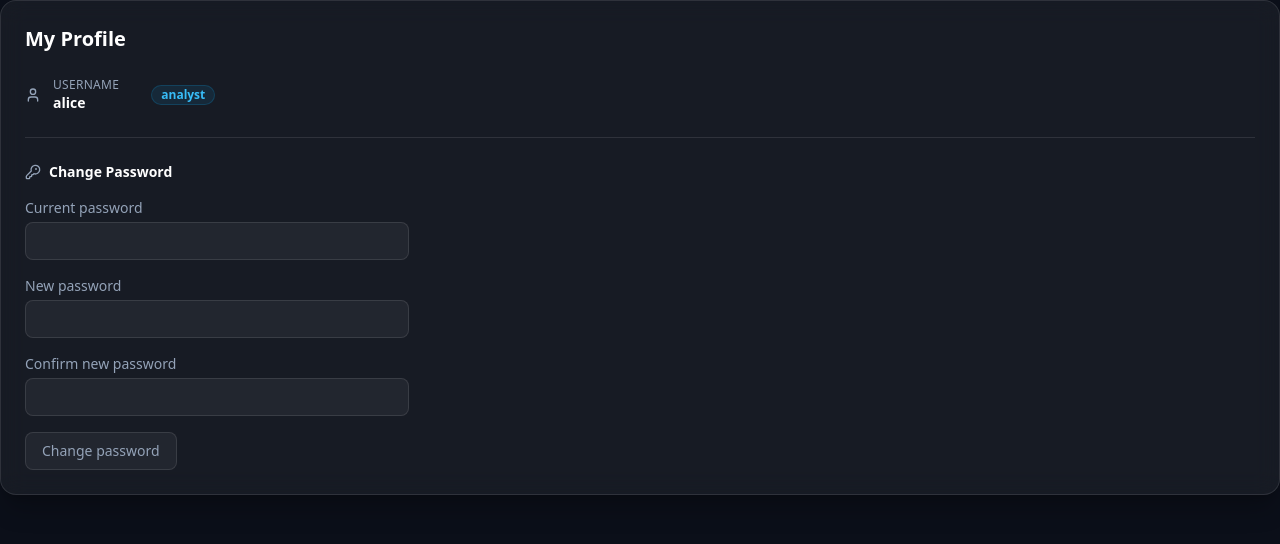
Test: ProfileCard — client-side validation › shows too-short error when new password is fewer than 8 chars
This screenshot has width=1280, height=544.
In the password field labelled "Current password": (217, 241) [25,222,409,260], type "current123"
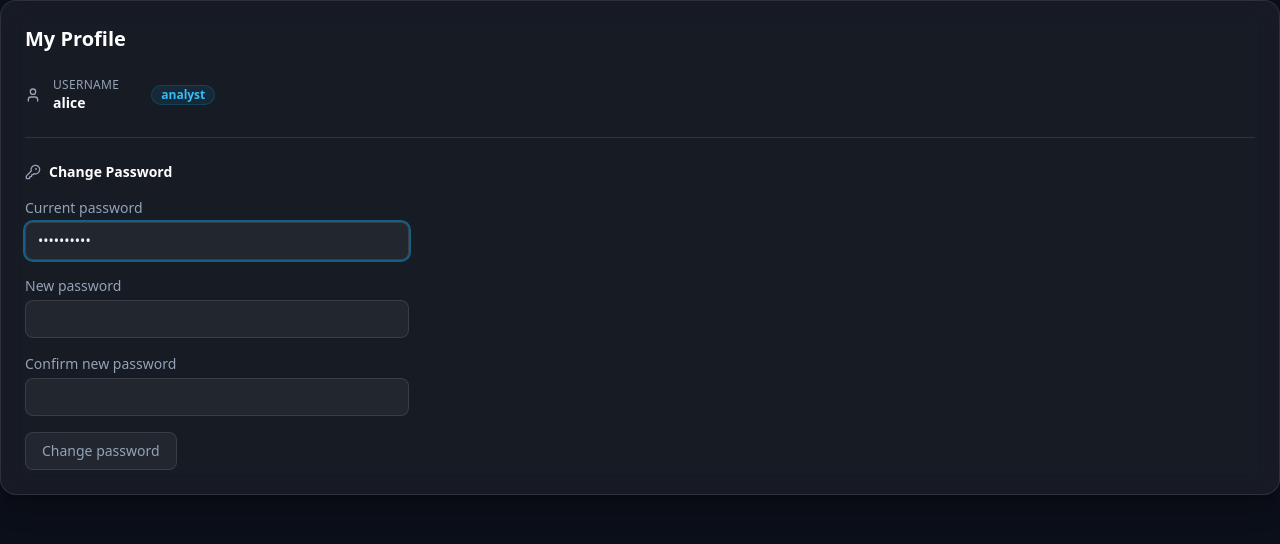
In the password field labelled "New password": (217, 319) [25,300,409,338], type "short"
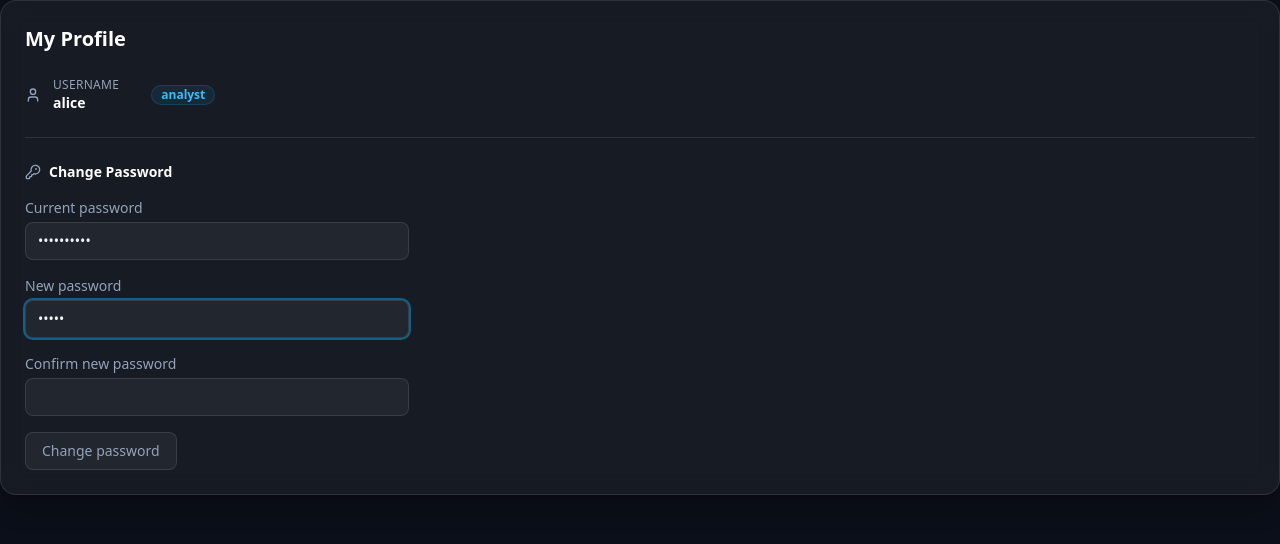
In the password field labelled "Confirm new password": (217, 397) [25,378,409,416], type "short"
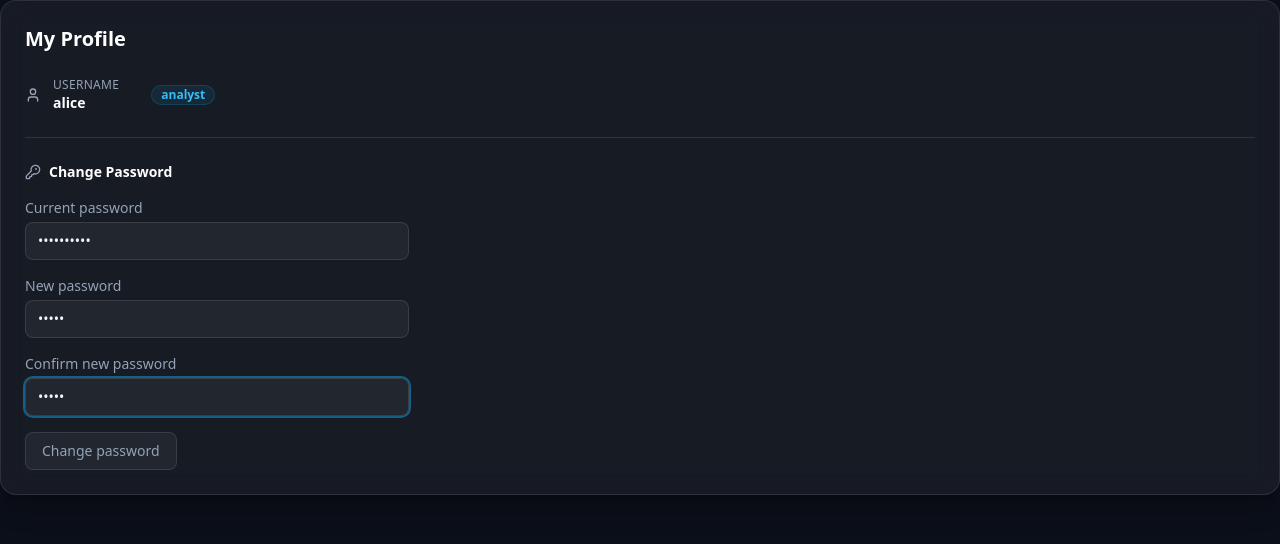
Click the button "Change password": click(101, 451) [25,432,177,470]
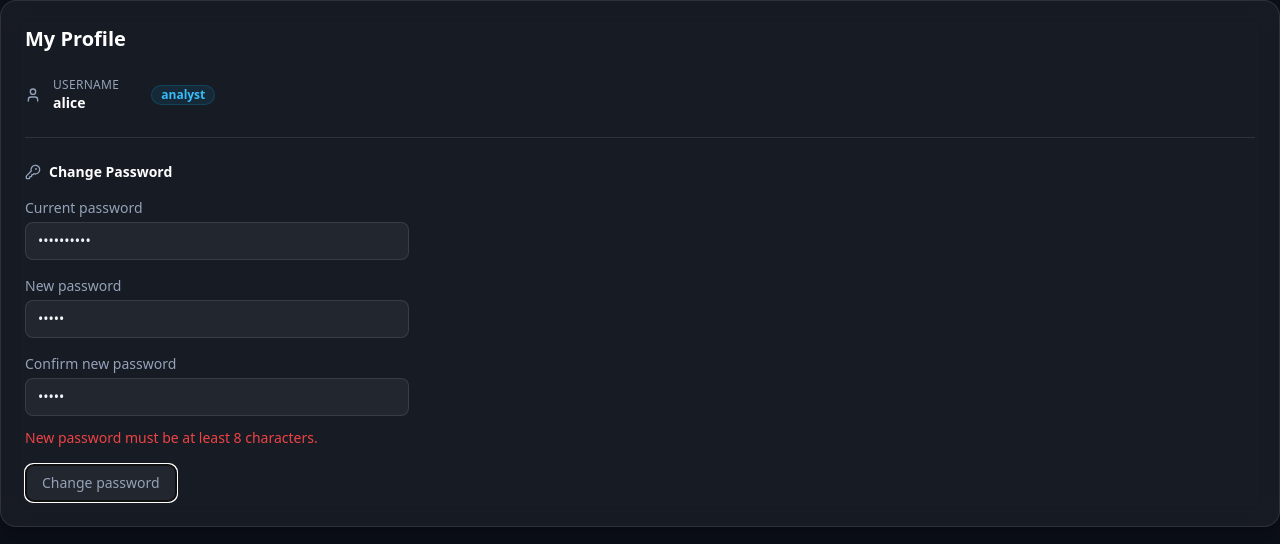
Check: the message reads "New password must be at least 8 characters.", box [25,428,318,447]
